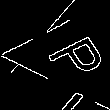P_NE: (37, 26, 110, 84)
